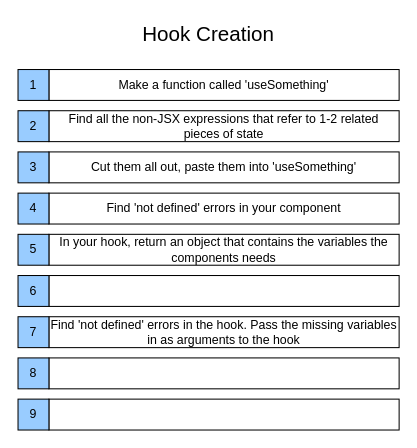
Image size: 417x448. Some labels were removed from this diagram. The centre of each missing label's shape, as x and y in pixels:
In the component, call your hook. Destructure the properties the component needs: pixel 223 290
Rename returned properties to something more descriptive: pixel 223 414
Rename the hook to something more meaningful: pixel 223 373
